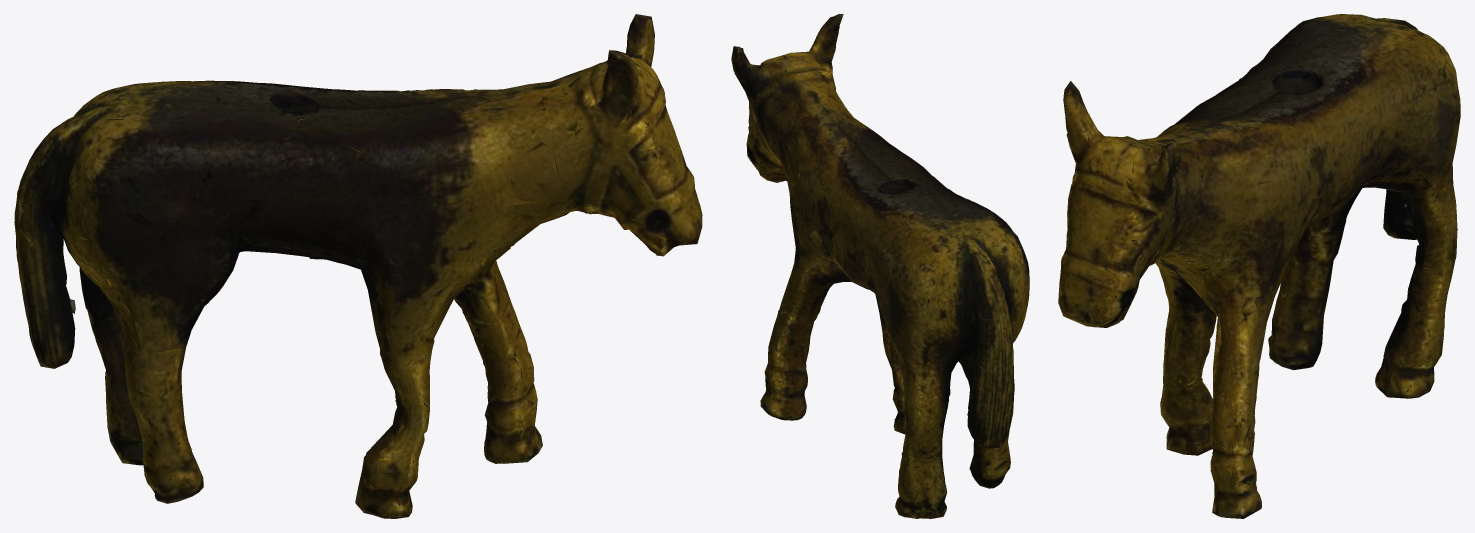
The model's file is donkey.glb.
3 renders of one model, left to right at view 1: azimuth 30°, elevation 25°; view 2: azimuth 150°, elevation 25°; view 3: azimuth 270°, elevation 25°, orthographic. The views are drawn at different scales.
Visible parts, largest first — view 1: Object_2.001; view 2: Object_2.001; view 3: Object_2.001.
Boxes of the visible parts, box(x1,y1,x2,y2) form: Object_2.001: box(14, 14, 702, 518); Object_2.001: box(731, 14, 1029, 518); Object_2.001: box(1058, 14, 1460, 518).
Bounding box in the file's own units: 1.55 × 1.35 × 1.12.
1 material, 1 textured.
